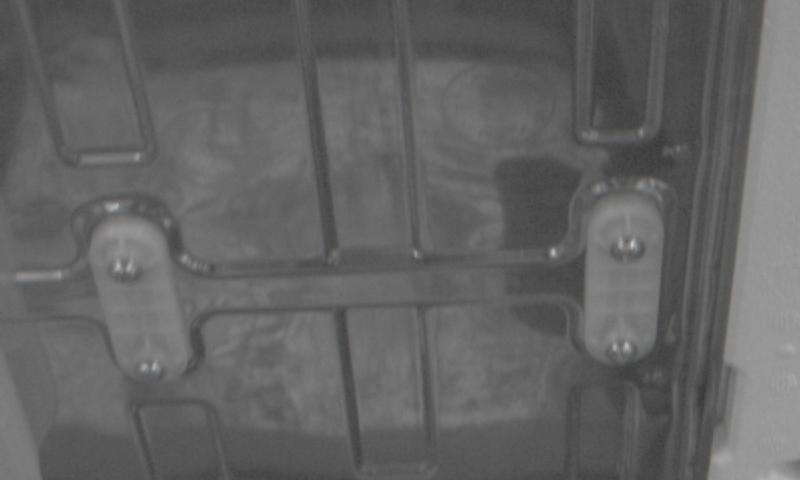vida-ok: (606, 228, 652, 272), (102, 248, 147, 292), (597, 334, 643, 373), (125, 351, 170, 390)
